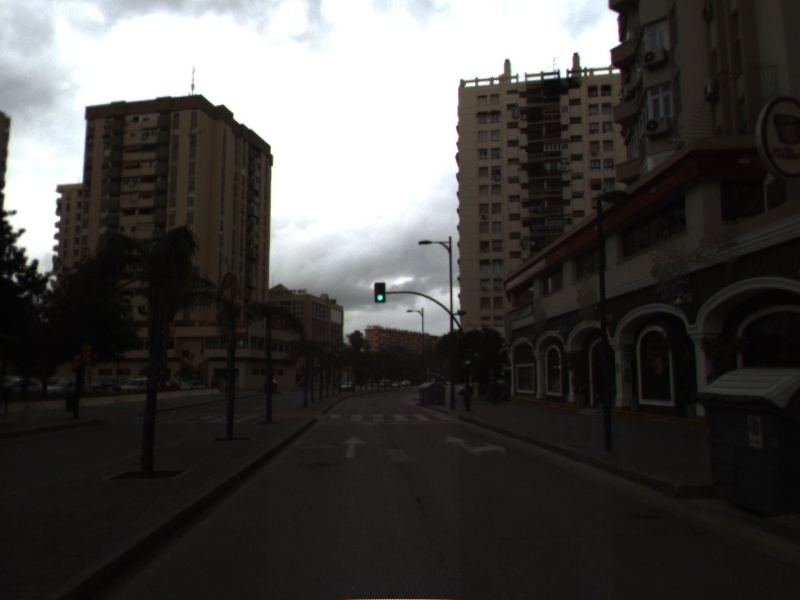STRAIGHT: (338, 434, 369, 460)
STRAIGHT_RIGHT: (443, 433, 509, 458)
